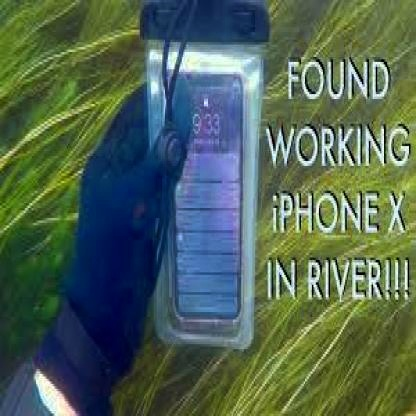cellphone: (165, 72, 247, 327)
